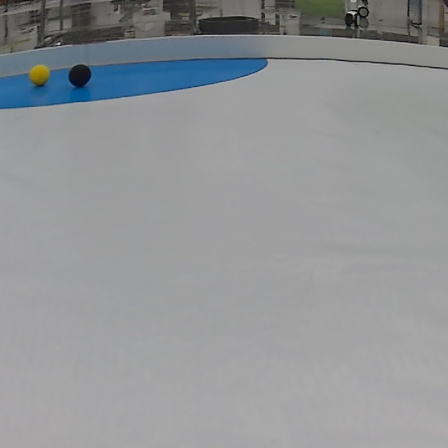black: (68, 66, 95, 88)
blue_base: (0, 62, 278, 112)
yellow: (28, 66, 53, 88)
